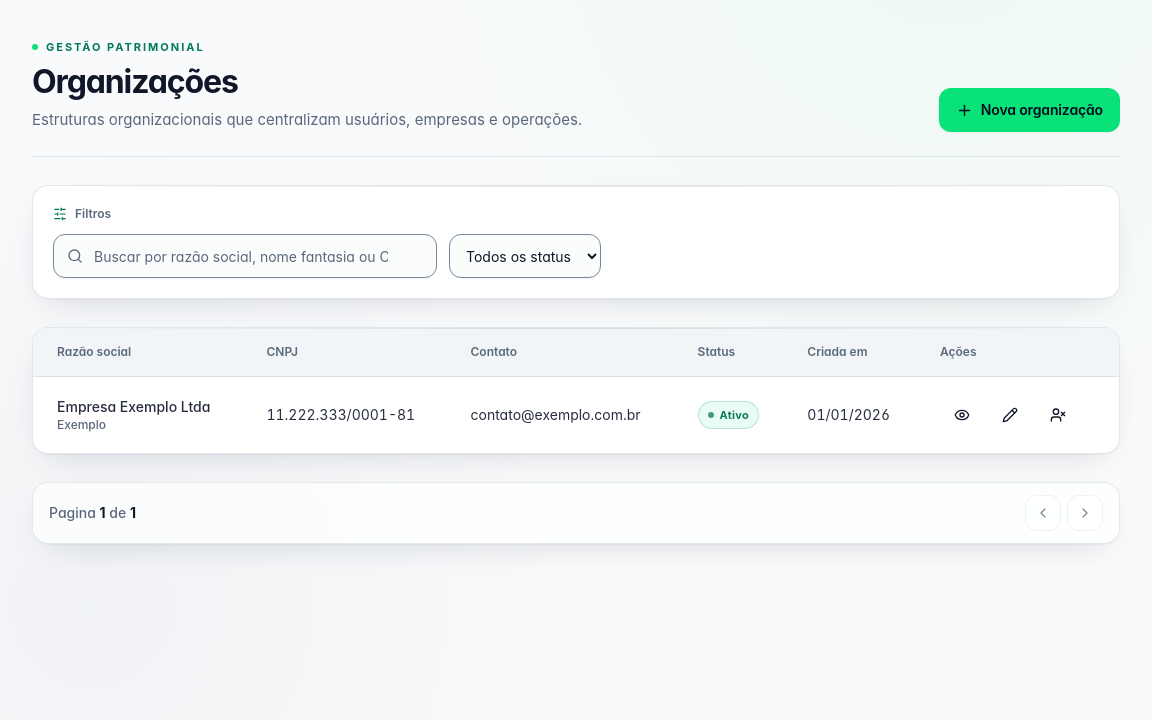
Test: OrganizationsPage › valida formulário de criação
This screenshot has width=1152, height=720.
Click the button "Nova organização".
click(1029, 110)  # box [939,88,1120,132]
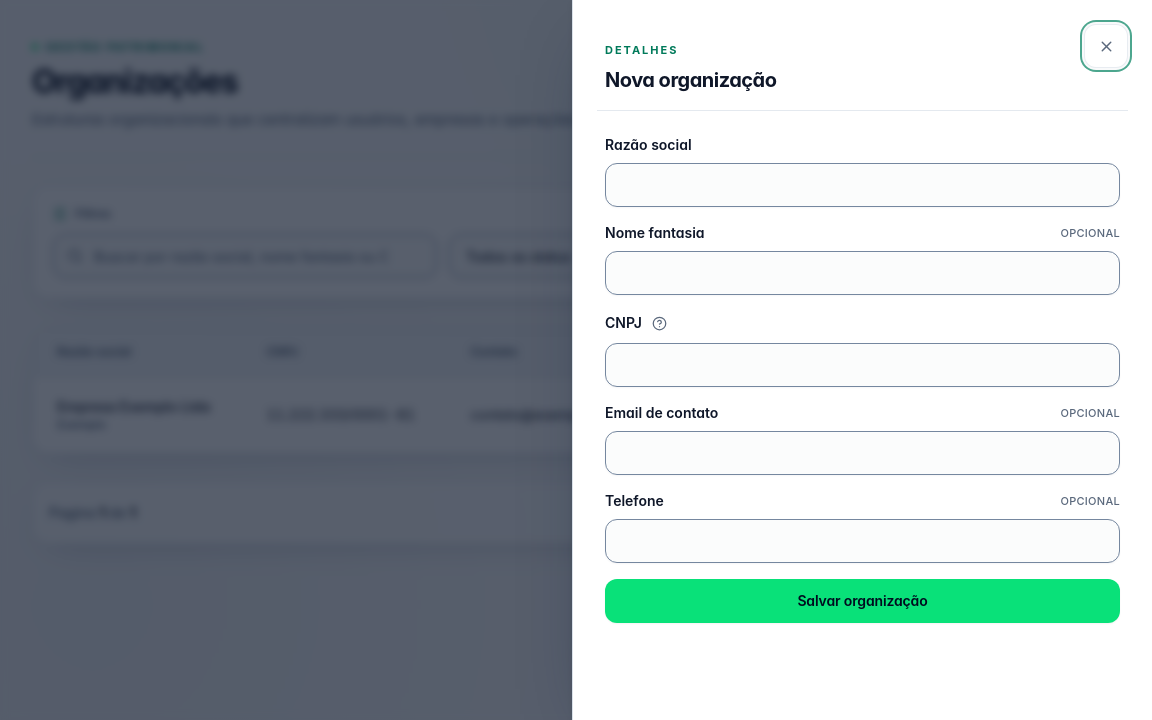
Click the button "Salvar organização".
click(862, 601)  # box [605,579,1120,623]
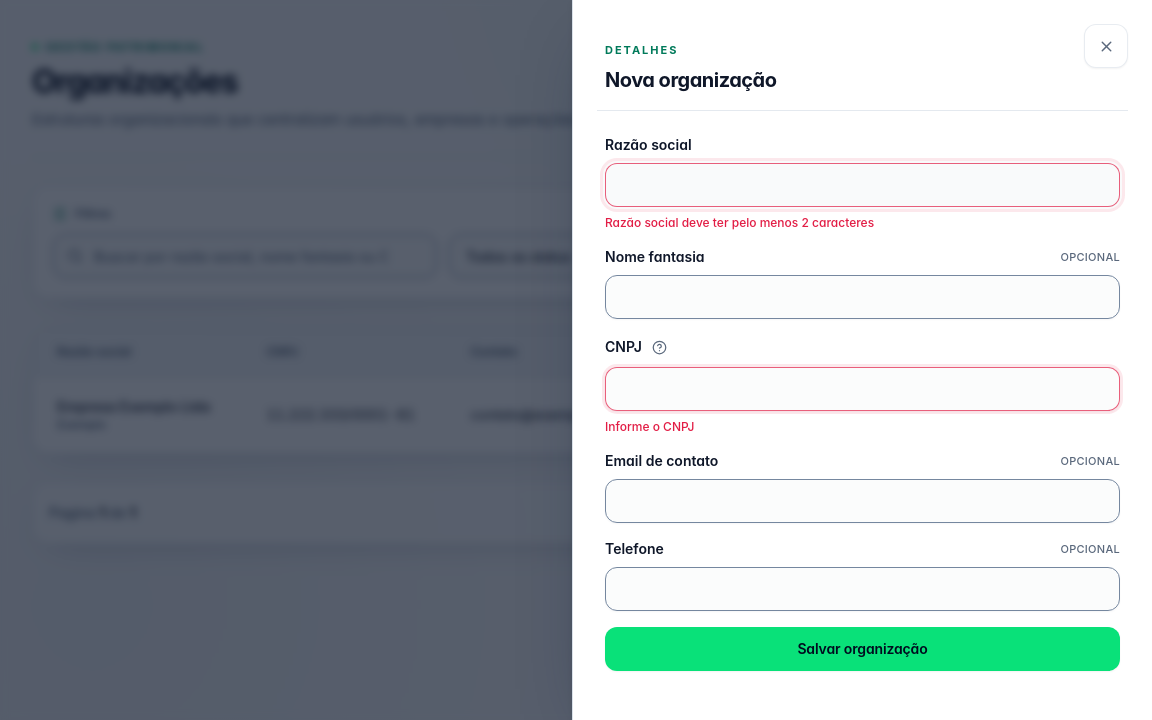
Result: the text "Razão social deve ter pelo menos 2 caracteres" is shown at [605,215,874,230]
Result: the text "Informe o CNPJ" is shown at [605,419,694,434]
